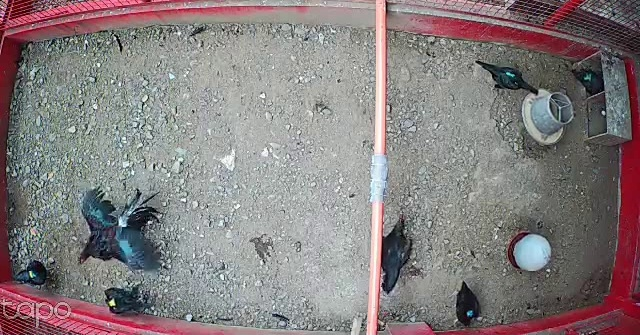Chicken: (379, 215, 417, 296), (472, 56, 539, 100), (451, 278, 486, 328), (99, 287, 157, 315), (13, 255, 59, 288)
Rooster: (76, 186, 169, 270)
Saddle_Color_Blue: (466, 309, 473, 316)
Saddle_Color_Yellow: (109, 297, 116, 306)
Saddle_Color_YellowGreen: (28, 270, 36, 278)
